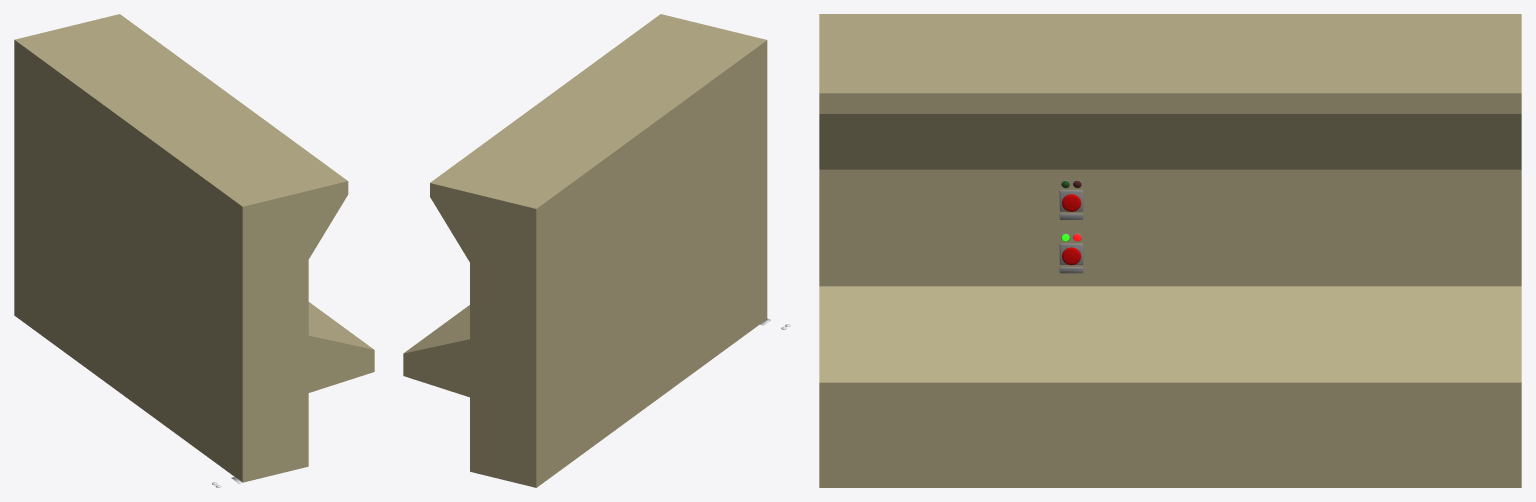
Rendered from v04_control_panel.glb.
The picture shows the model from 3 angles, left to right: view 1: azimuth 30°, elevation 25°; view 2: azimuth 150°, elevation 25°; view 3: azimuth 270°, elevation 25°; orthographic projection. The views are drawn at different scales.
Visible parts, largest first — view 1: controlpanel; view 2: controlpanel; view 3: controlpanel.
Boxes of the visible parts, x1,y1,x2,y2 form: controlpanel: (14,14,374,482); controlpanel: (403,14,767,487); controlpanel: (819,14,1521,487).
Bounding box in the file's own units: 1.19 × 2 × 3.
